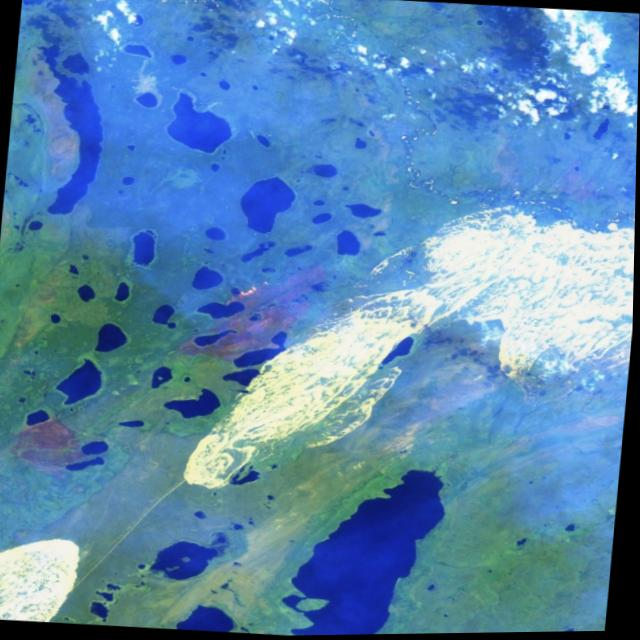fire: (222, 267, 282, 312)
